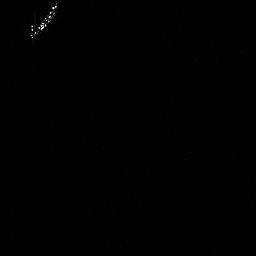ship: (27, 1, 61, 42)
